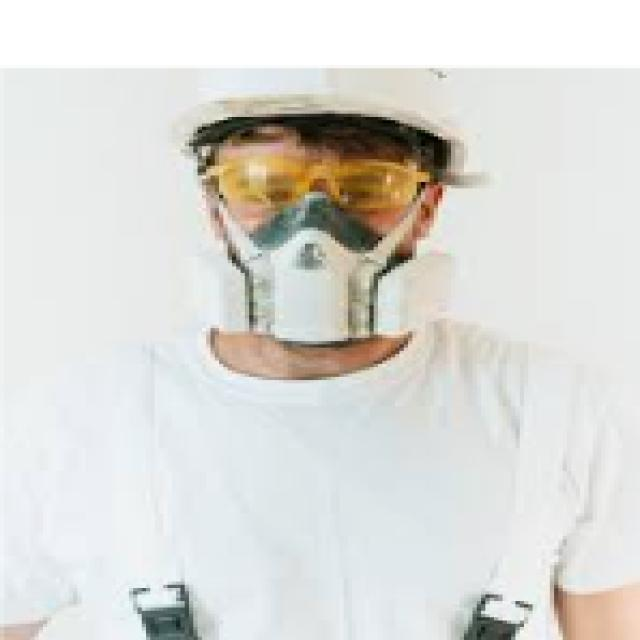glasses: (198, 153, 448, 219)
